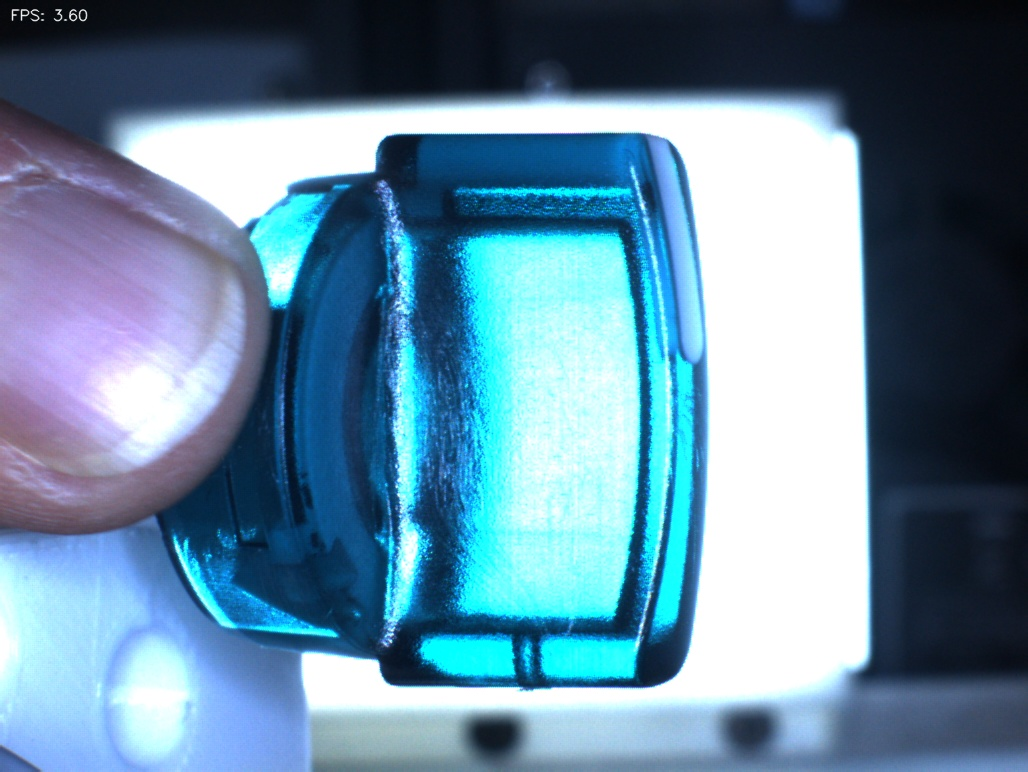Bulle: (480, 590, 573, 707)
